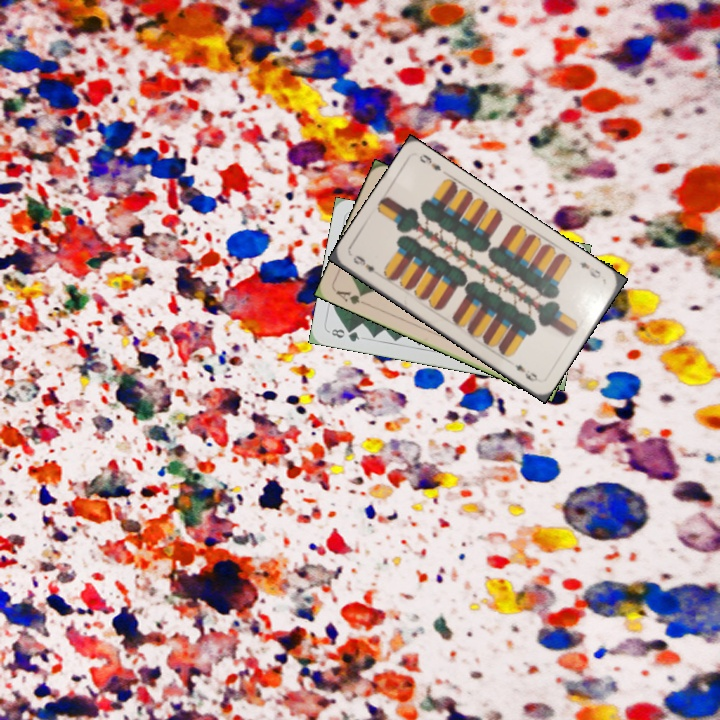E9: (349, 251, 377, 275), (576, 258, 603, 281)
G8: (327, 325, 362, 344)
GA: (332, 286, 371, 308)
